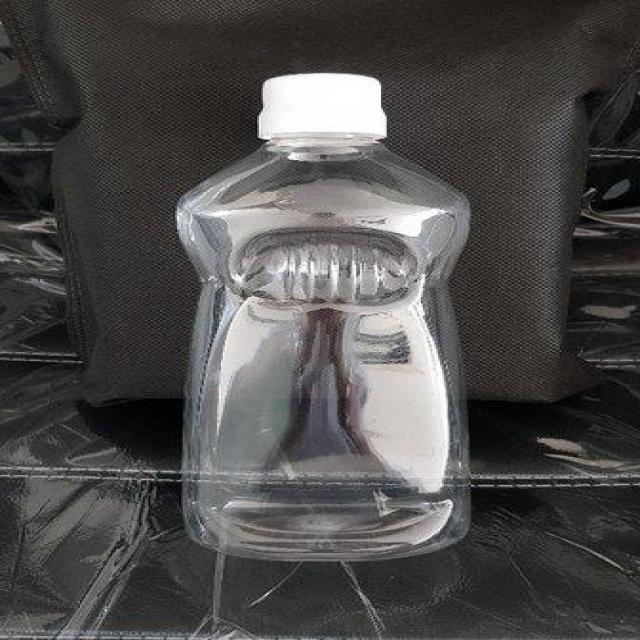plastic_bottle: (165, 64, 498, 566)
